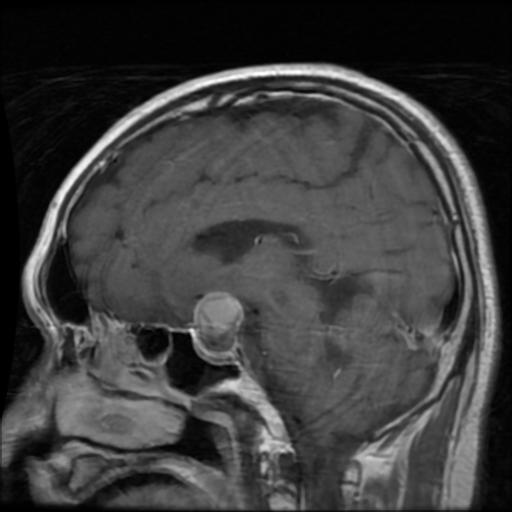Pituirity_tumour: (196, 297, 241, 338)
